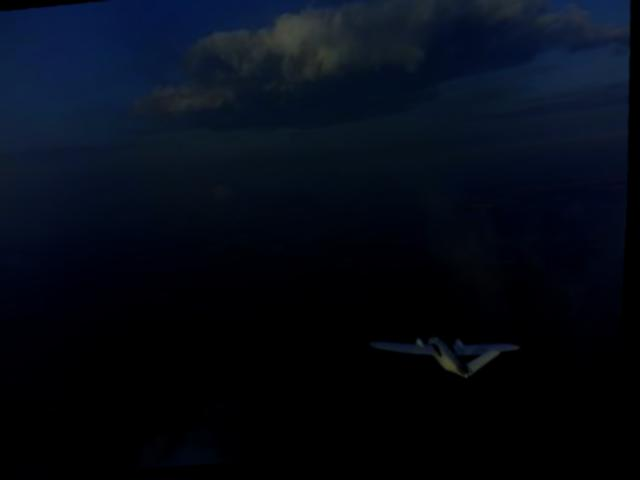uav: (365, 321, 529, 401)
